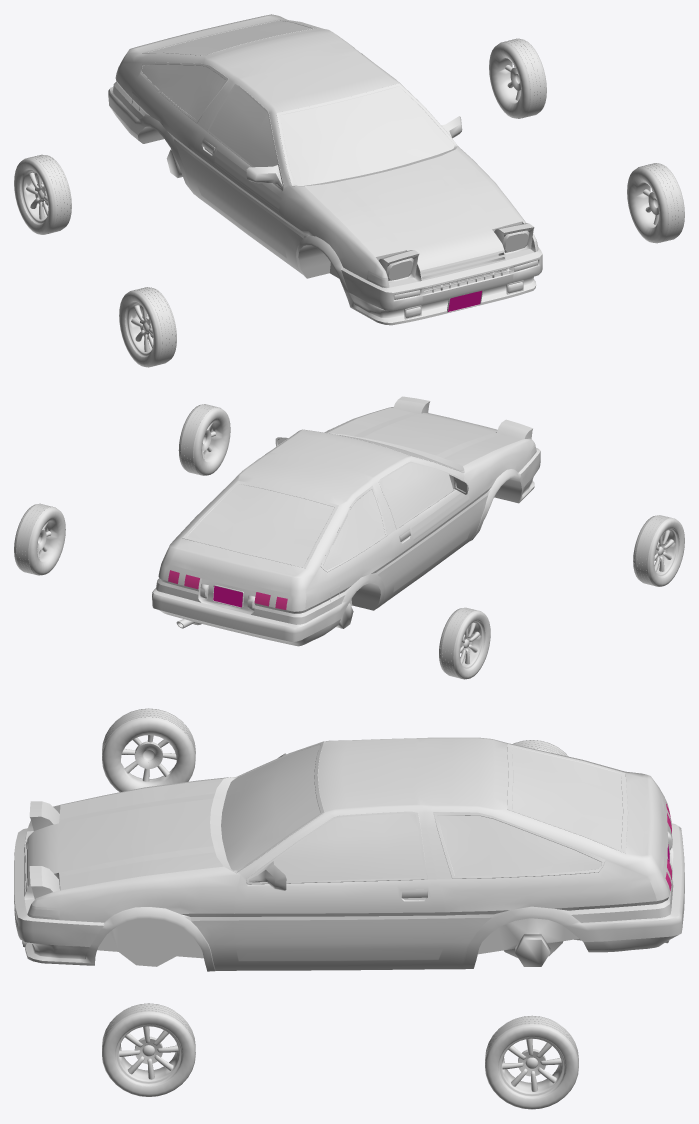
Rendered from Trueno.dae.
3 renders of one model, top to bottom at view 1: azimuth 30°, elevation 25°; view 2: azimuth 150°, elevation 25°; view 3: azimuth 270°, elevation 25°, orthographic. The views are drawn at different scales.
Parts seen in each view (by area): view 1: Circle.004, Circle.003, Circle.005, Circle.001, Circle.002, НАДПИСИ; view 2: Circle.004, Circle.002, Circle.005, Circle.003, Circle.001, НАДПИСИ, Circle.007; view 3: Circle.004, Circle.002, Circle.005, Circle.003.
Part boxes in pixels (x1,y1,x2,y2): Circle.004: [108, 14, 542, 325]; Circle.003: [119, 287, 176, 367]; Circle.005: [489, 38, 546, 118]; Circle.001: [14, 154, 71, 234]; Circle.002: [627, 163, 684, 243]; НАДПИСИ: [131, 91, 281, 211]; Circle.004: [152, 396, 540, 646]; Circle.002: [178, 404, 230, 475]; Circle.005: [14, 503, 65, 575]; Circle.003: [633, 515, 684, 586]; Circle.001: [439, 607, 490, 679]; НАДПИСИ: [330, 492, 469, 605]; Circle.007: [212, 585, 243, 608]; Circle.004: [14, 737, 684, 971]; Circle.002: [102, 1003, 195, 1096]; Circle.005: [485, 1015, 578, 1109]; Circle.003: [102, 708, 195, 792].
Bounding box in the file's own units: 10.92 × 9.66 × 2.89.
